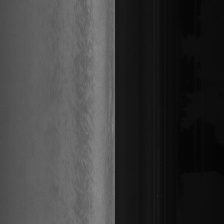silk_spot: (75, 75, 94, 126)
